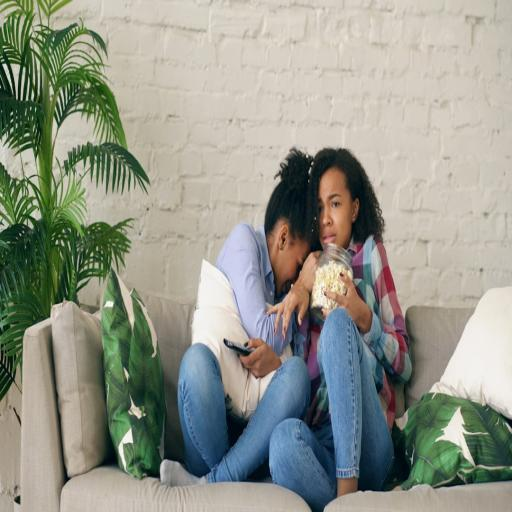face: (318, 168, 358, 249), (272, 237, 310, 297)
